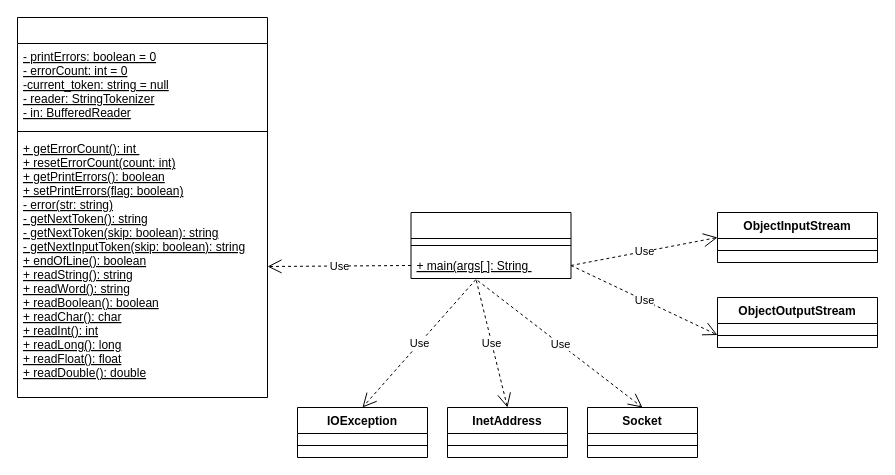
The diagram is 895 pixels wide and 475 high, and some of its shapes have lost their labels. Each missing label, with the box of its shape:
KeyBoard: (16, 16, 268, 398)
MainTest: (410, 212, 571, 278)
